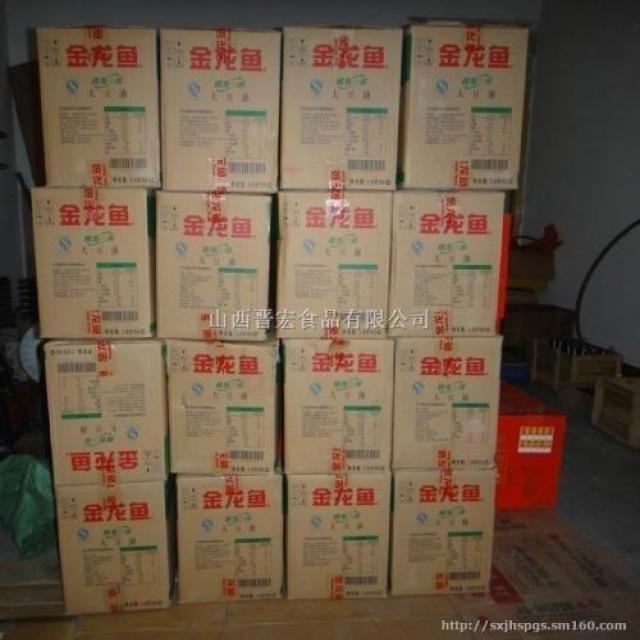box: (150, 20, 279, 194), (29, 28, 164, 194), (401, 22, 527, 192), (278, 23, 402, 193), (30, 183, 156, 344), (34, 339, 174, 482), (275, 188, 393, 342), (155, 189, 273, 341), (393, 188, 505, 342), (52, 482, 178, 617), (276, 333, 391, 476), (390, 333, 503, 475), (166, 338, 282, 476), (286, 464, 395, 606), (175, 473, 286, 605), (392, 465, 499, 597)
